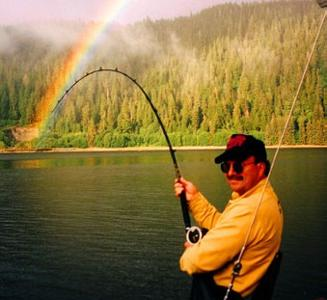person: (174, 135, 284, 299)
